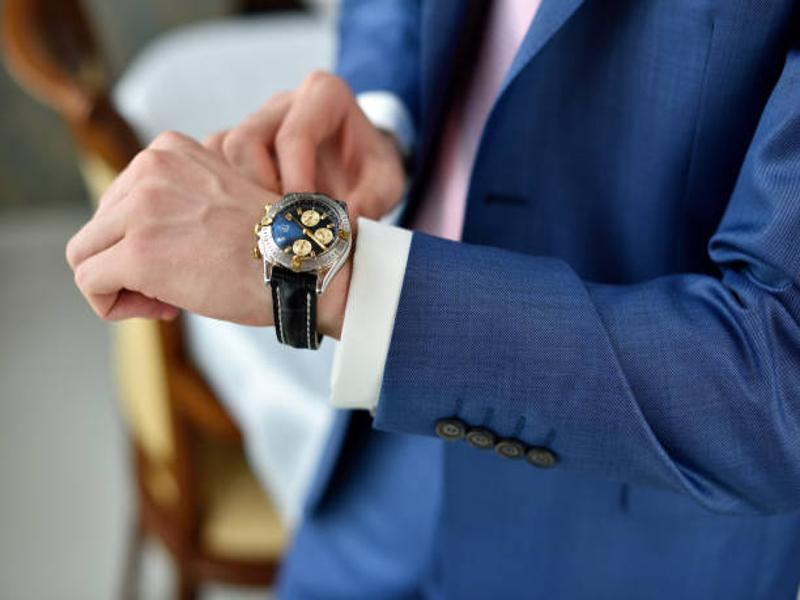watch: (254, 189, 352, 353)
